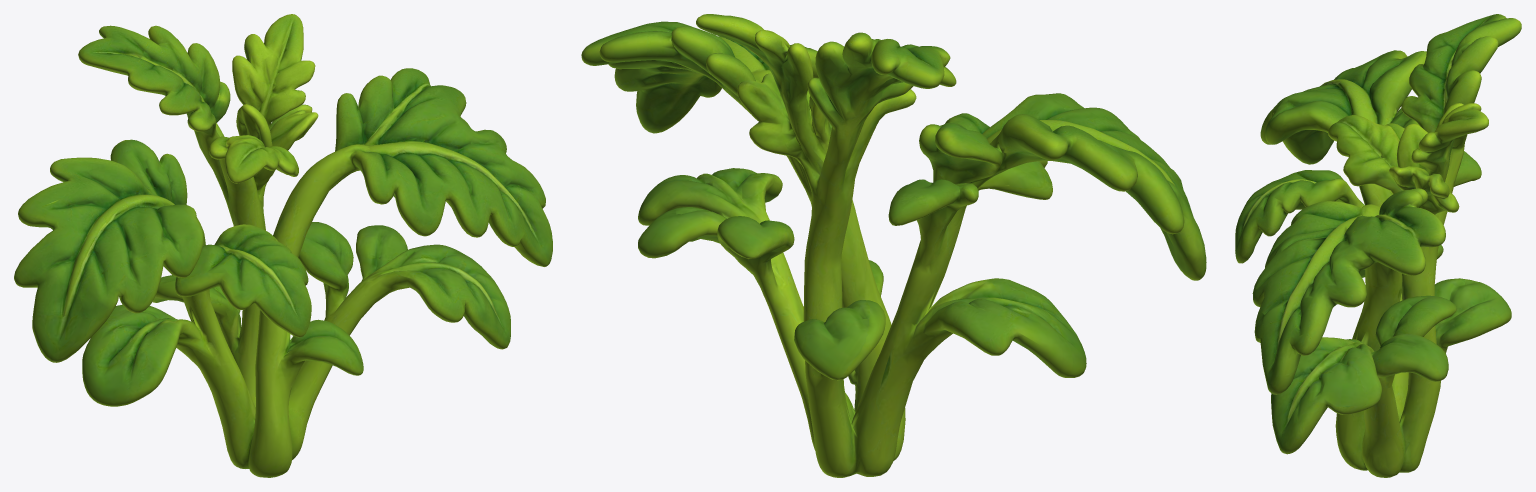
Rendered from tomato-sprout.glb.
3 renders of one model, left to right at view 1: azimuth 30°, elevation 25°; view 2: azimuth 150°, elevation 25°; view 3: azimuth 270°, elevation 25°, orthographic. The views are drawn at different scales.
Bounding box in the file's own units: 1.9 × 1.5 × 0.9611.
Materials: 1 (1 with a texture image).
